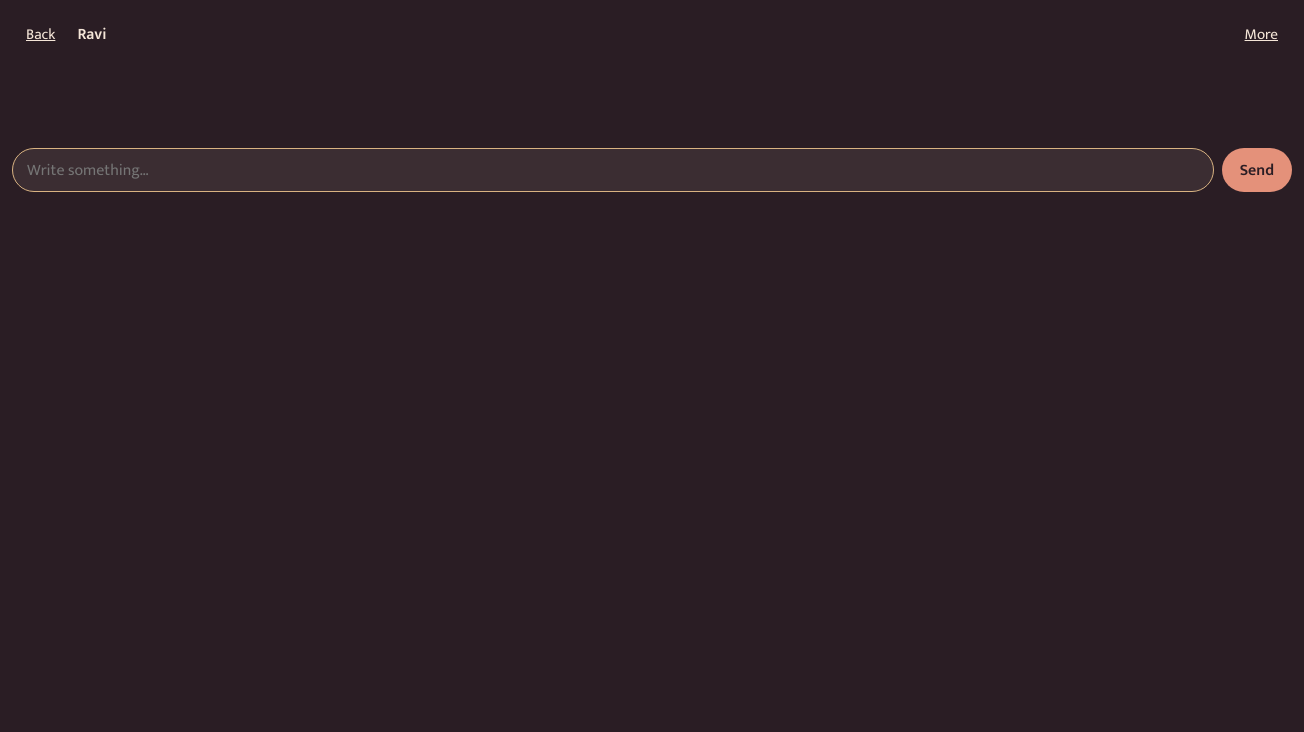
a chat's menu offers "Be friends" until it is asked, then says where it stands
The width and height of the screenshot is (1304, 732).
Click the button "More".
click(1261, 34)  # box [1231,12,1292,56]
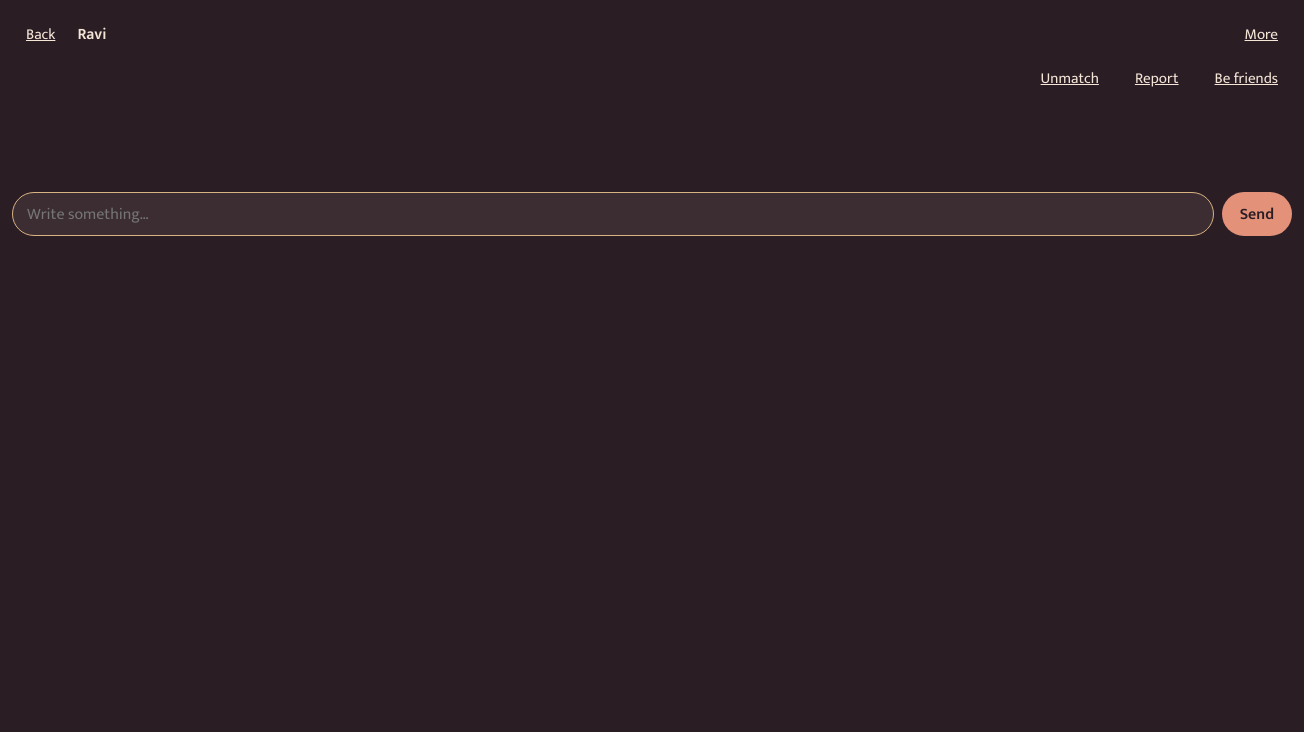
Click the button "Be friends".
click(1246, 78)  # box [1201,56,1292,100]
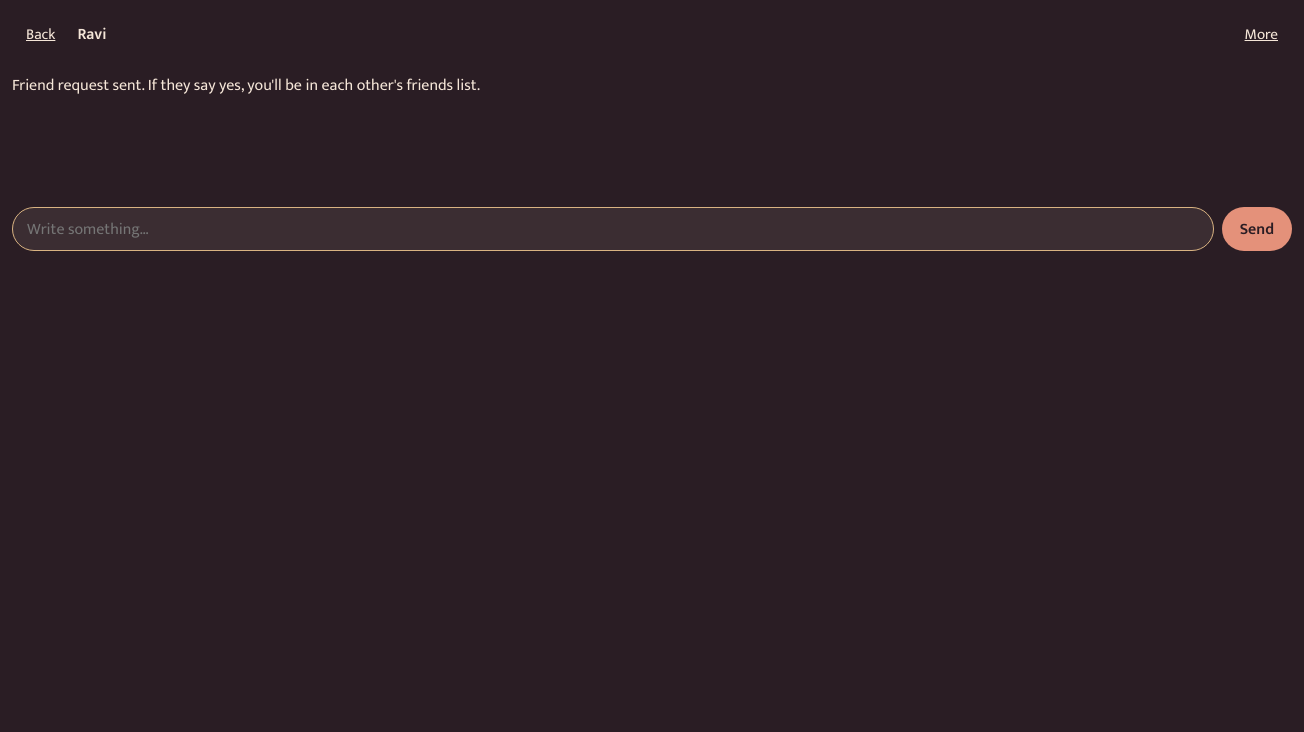
Check: the text "Friend request sent." is shown, box [12,72,480,99]
Click the button "More".
click(1261, 34)  # box [1231,12,1292,56]
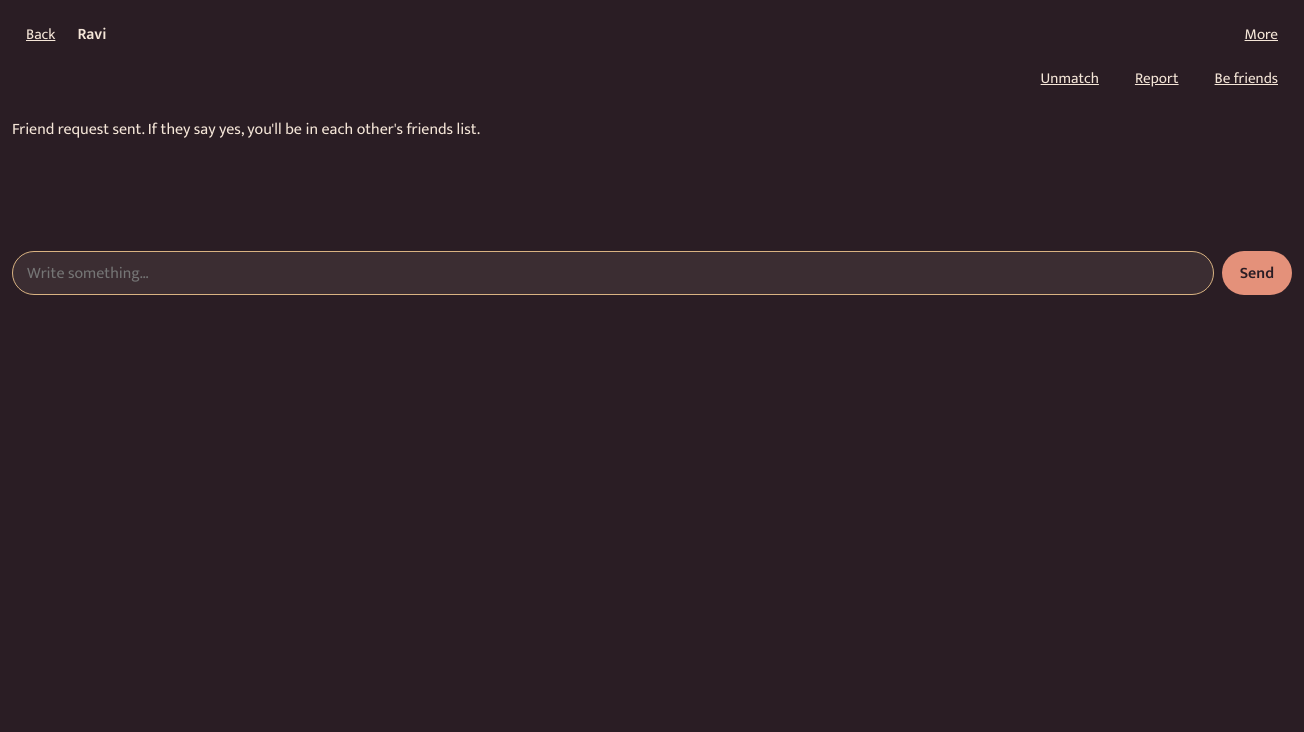
Click the button "Be friends".
click(1246, 78)  # box [1201,56,1292,100]
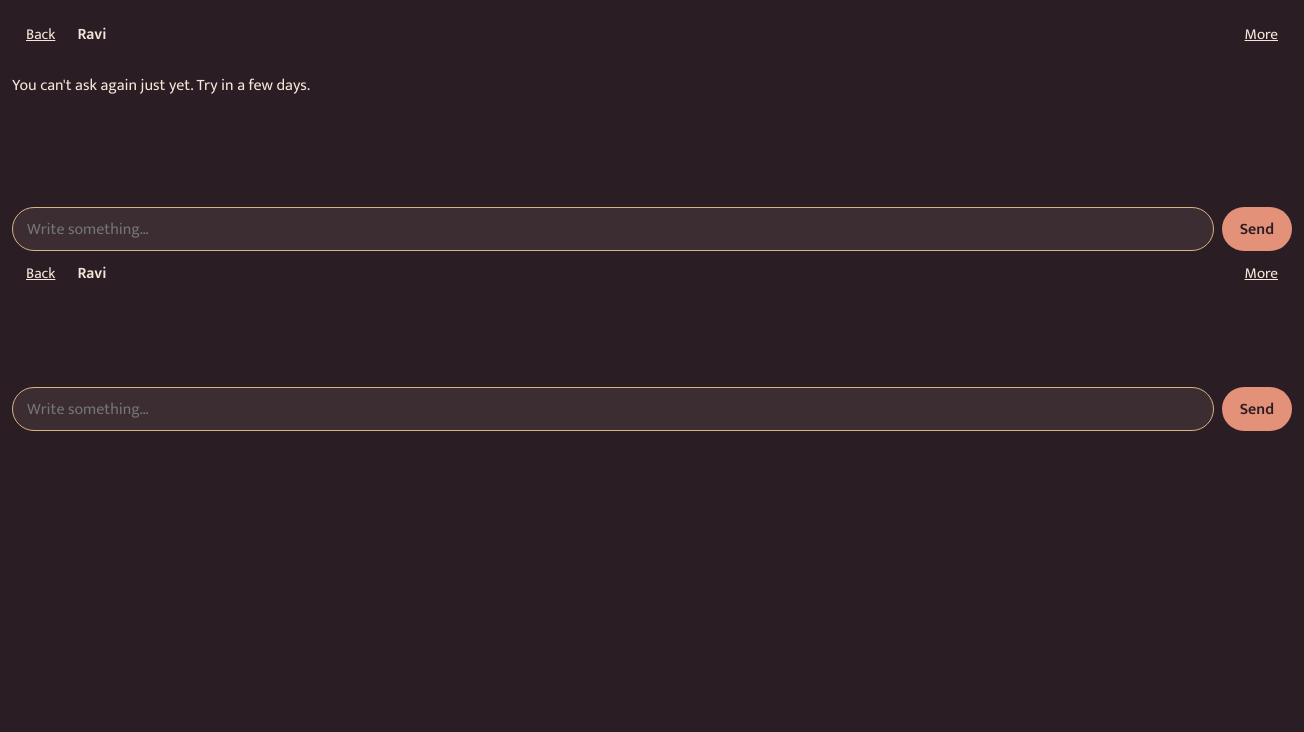
Check: the text "You can't ask again just yet." is shown, box [12,72,310,99]
Click the 2nd button "More".
click(1261, 273)  # box [1231,251,1292,295]
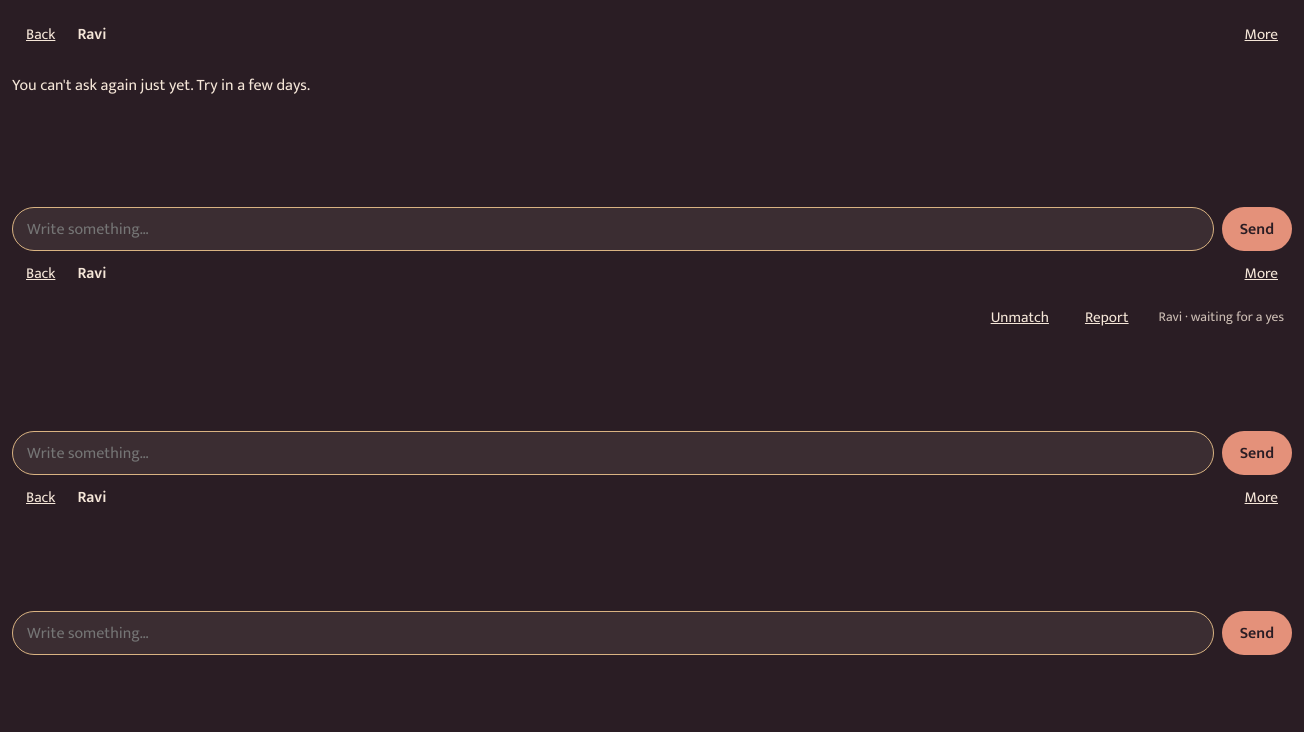
Check: the text "Ravi · waiting for a yes" is shown, box [1151,306,1292,328]
Click the 3rd button "More".
click(1261, 497)  # box [1231,475,1292,519]
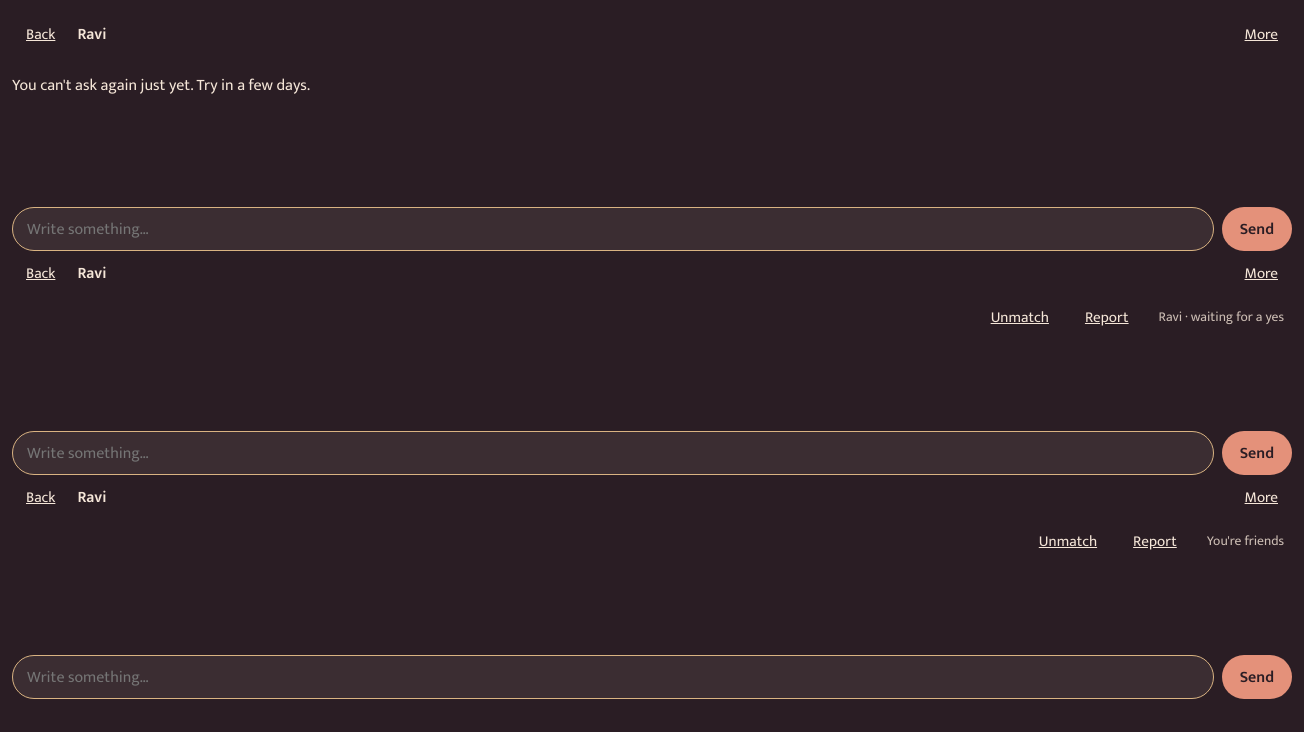
Check: the text "You're friends" is shown, box [1207,530,1284,552]
